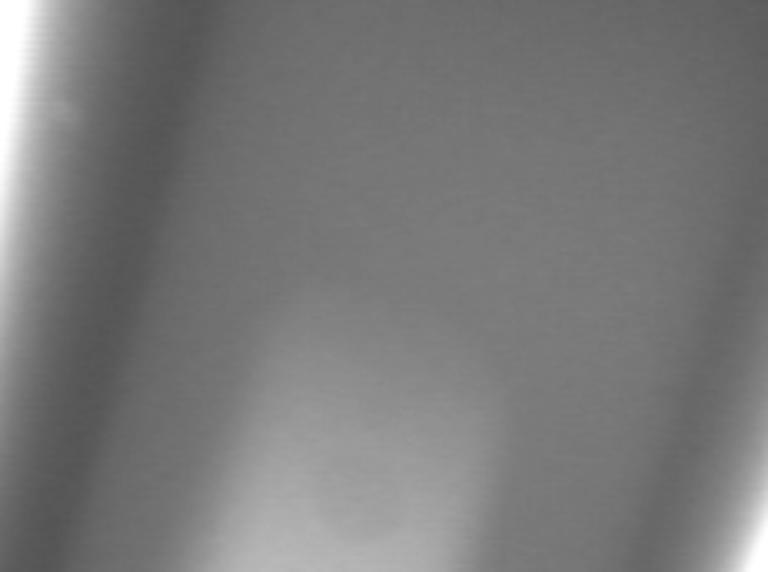defect: (57, 105, 93, 142)
